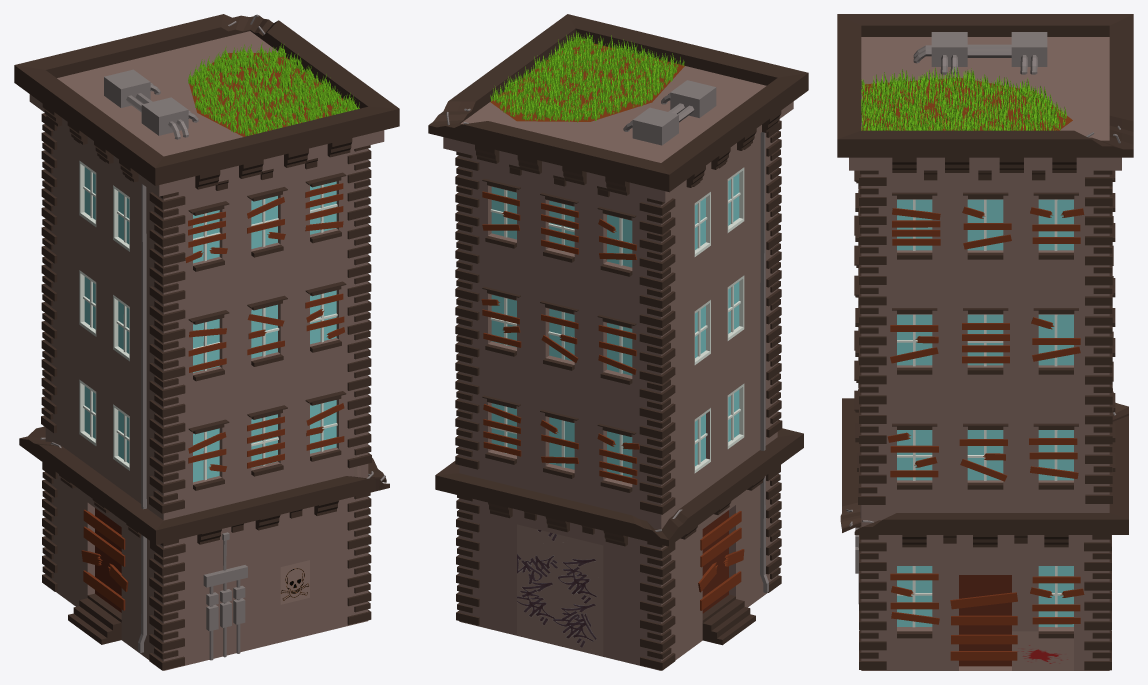
Rendered from Building03_destroyed.fbx.
3 renders of one model, left to right at view 1: azimuth 30°, elevation 25°; view 2: azimuth 150°, elevation 25°; view 3: azimuth 270°, elevation 25°, orthographic. The views are drawn at different scales.
Parts seen in each view (by area): view 1: Building02.001, Dirt_plan; view 2: Building02.001, Dirt_plan; view 3: Building02.001, Dirt_plan.
Boxes of the visible parts, x1=… form: Building02.001: x1=14, y1=14, x2=399, y2=670; Dirt_plan: x1=188, y1=53, x2=347, y2=136; Building02.001: x1=428, y1=14, x2=808, y2=670; Dirt_plan: x1=490, y1=41, x2=684, y2=121; Building02.001: x1=837, y1=14, x2=1133, y2=670; Dirt_plan: x1=862, y1=78, x2=1072, y2=130.
Bounding box in the file's own units: 544 × 1111 × 544.
